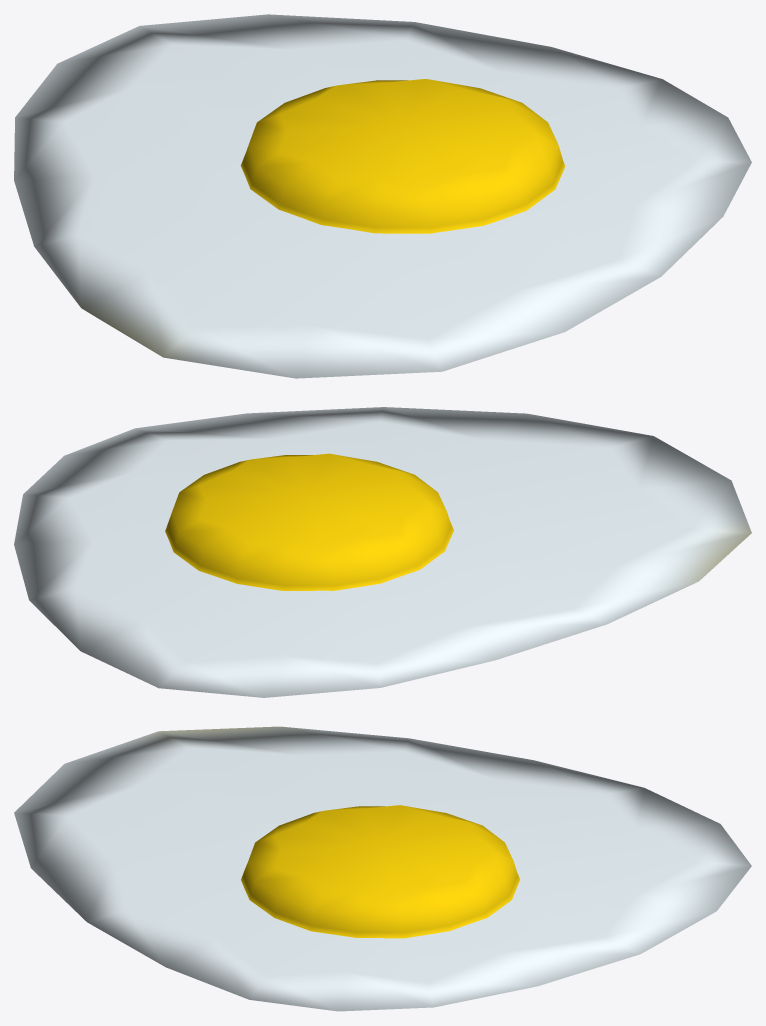
The model's file is EggYolk.fbx.
3 renders of one model, top to bottom at view 1: azimuth 30°, elevation 25°; view 2: azimuth 150°, elevation 25°; view 3: azimuth 270°, elevation 25°, orthographic. The views are drawn at different scales.
Parts seen in each view (by area): view 1: EggYolk; view 2: EggYolk; view 3: EggYolk.
Part boxes in pixels (x1,y1,x2,y2): EggYolk: (14,14,751,378); EggYolk: (14,407,751,697); EggYolk: (14,726,751,1011).
Size of the model in its own units: 9.82 by 8.98 by 0.7685.
Materials: 1 (1 with a texture image).
